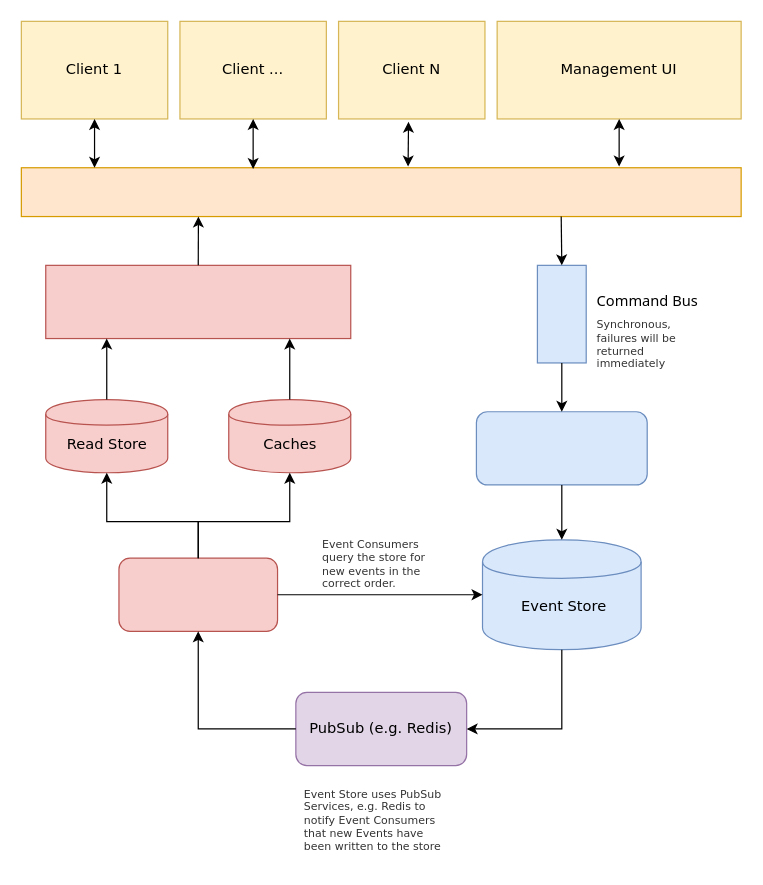
Some shapes in this 763 by 885 pixel diagram are drawn without their labels. Each missing label, with the centre of its shape:
"API Layer" goes at point 380,192.
"Command Handler" goes at point 561,448.
"Event Consumers" goes at point 198,594.
"Repositories" goes at point 198,301.
